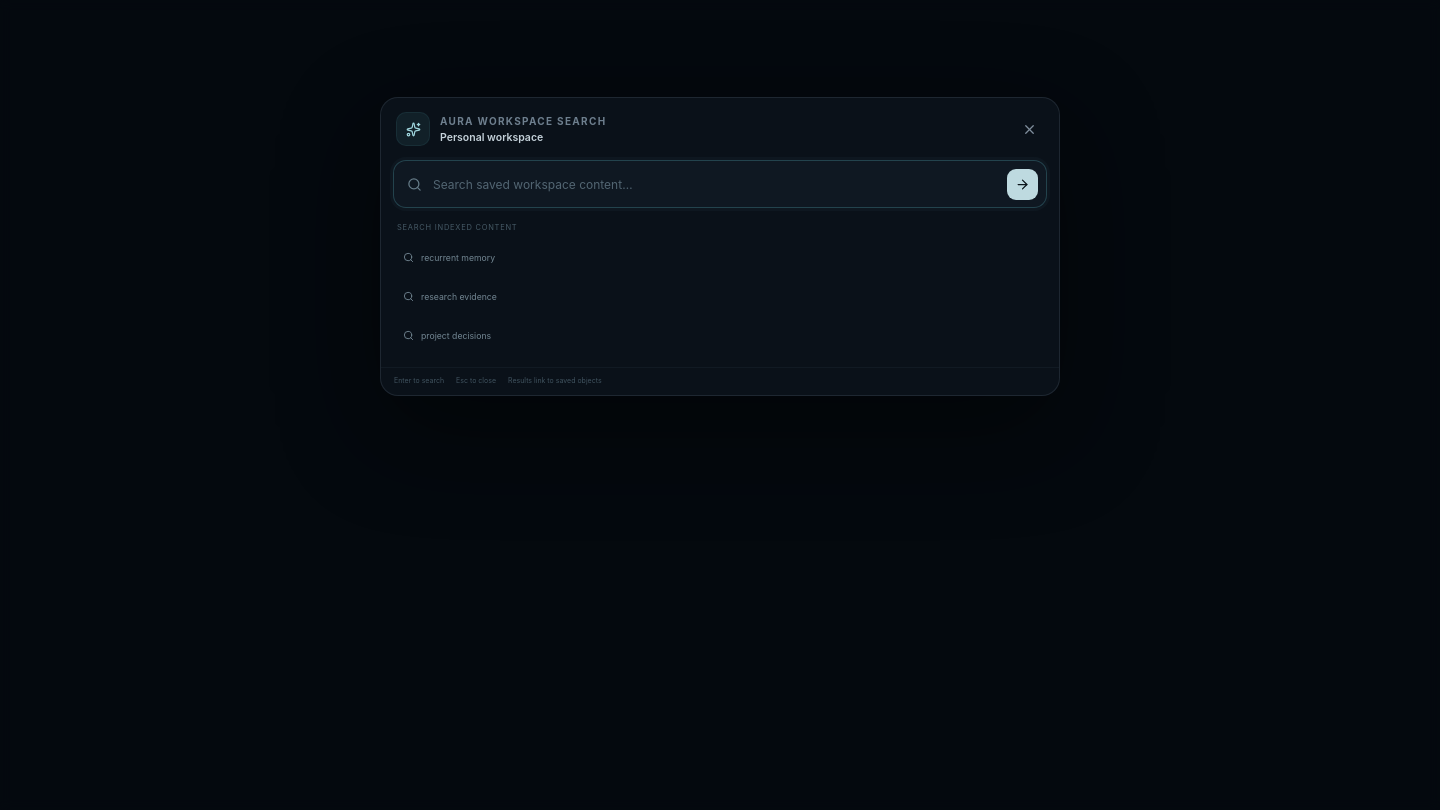
Test: AuraCommandPalette › reports an empty result set without inventing an answer or sources
Type "unmatched phrase" into the field labelled "Search saved workspace content" at coordinates (714, 184), box [431,176,998,193]
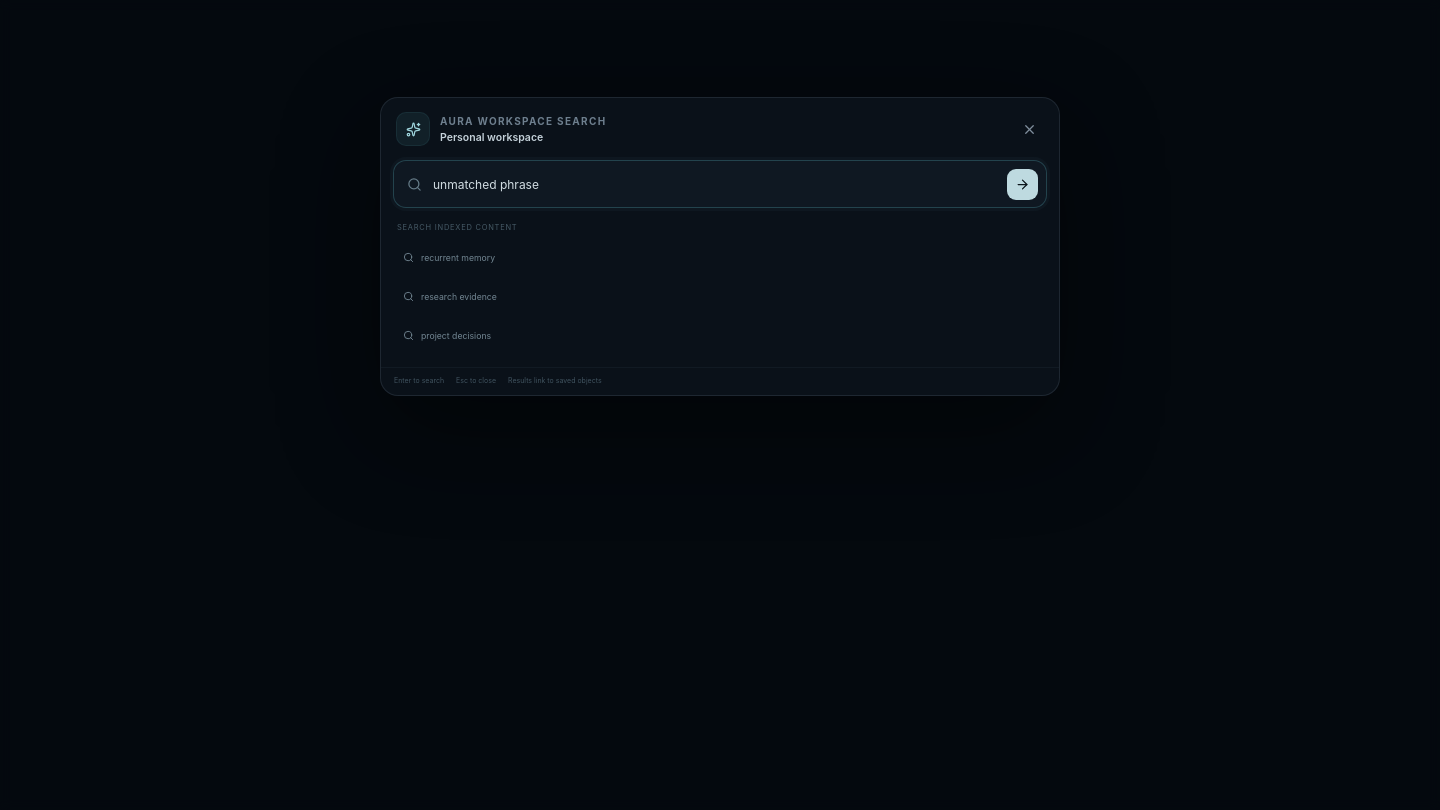
Click the button named "Search" at coordinates (1022, 184), box [1007,169,1038,200]
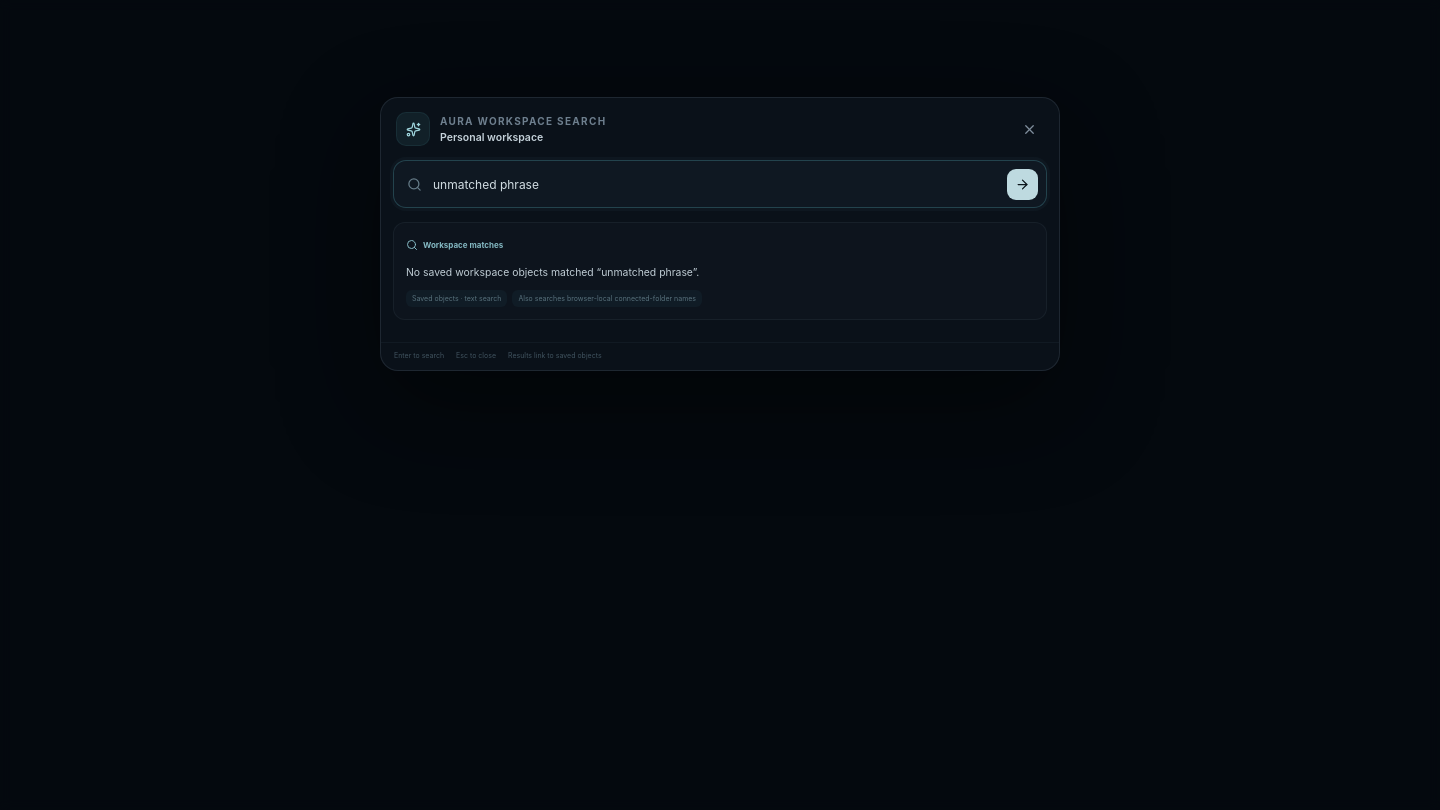
Expected: the text "No saved workspace objects matched “unmatched phrase”." is shown, [406,266,699,279]
